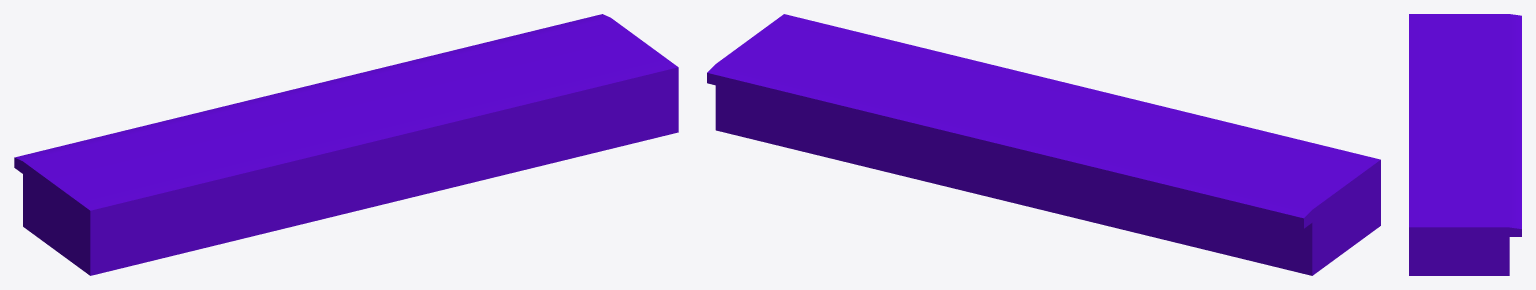
The model's file is Stair_B.fbx.
3 renders of one model, left to right at view 1: azimuth 30°, elevation 25°; view 2: azimuth 150°, elevation 25°; view 3: azimuth 270°, elevation 25°, orthographic. The views are drawn at different scales.
Parts seen in each view (by area): view 1: Stair_B; view 2: Stair_B; view 3: Stair_B.
Part boxes in pixels (<box>): Stair_B: <box>14,14,678,275</box>; Stair_B: <box>707,14,1380,275</box>; Stair_B: <box>1409,14,1521,275</box>.
Size of the model in its own units: 198 by 21.01 by 44.34.
